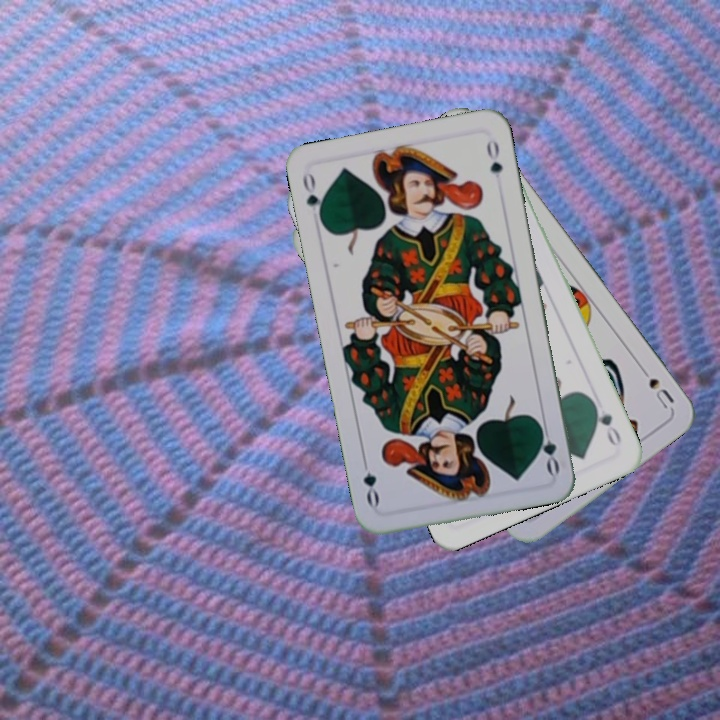GO: (588, 397, 624, 449), (298, 168, 327, 226), (534, 418, 562, 477)
SU: (634, 360, 677, 412)
